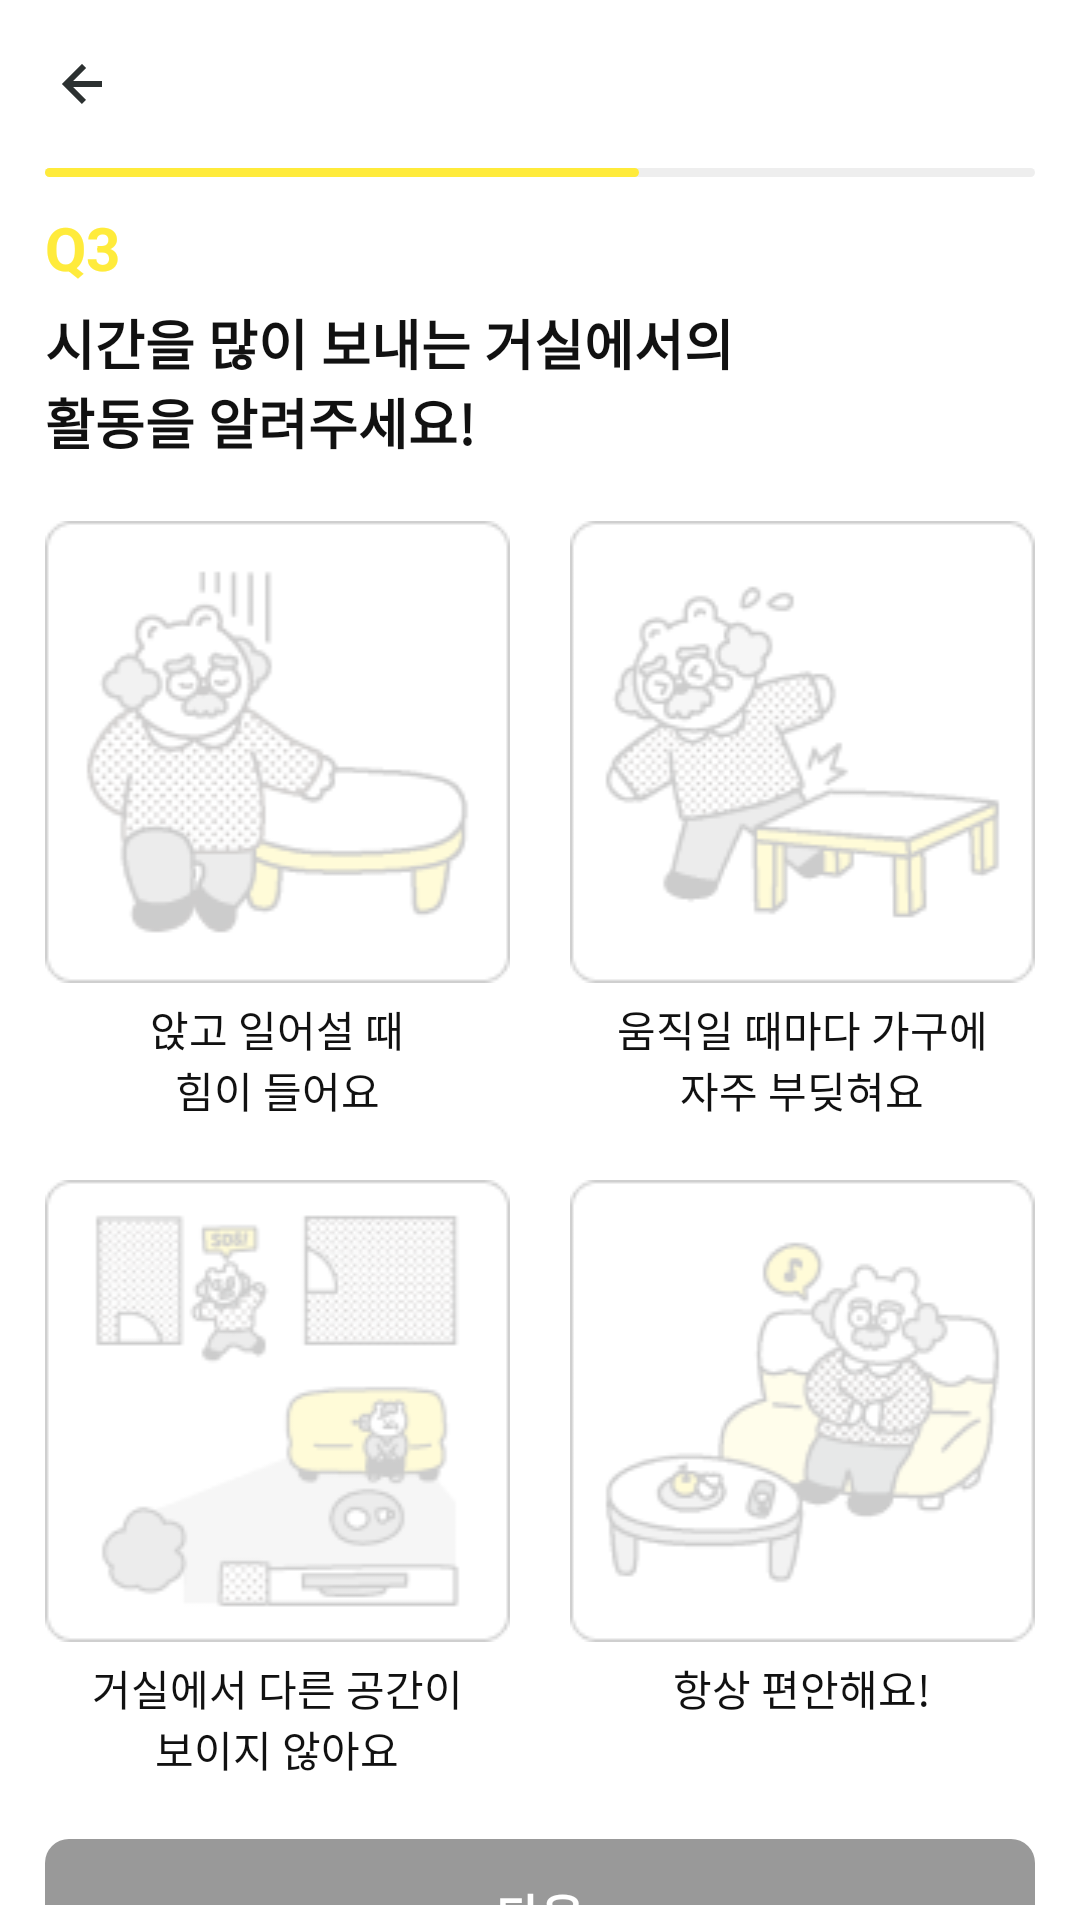

Screen size 1080x1920. Icon name, then its box in pixels as (x1, y1, x2, y2):
back: (62, 64, 102, 104)
